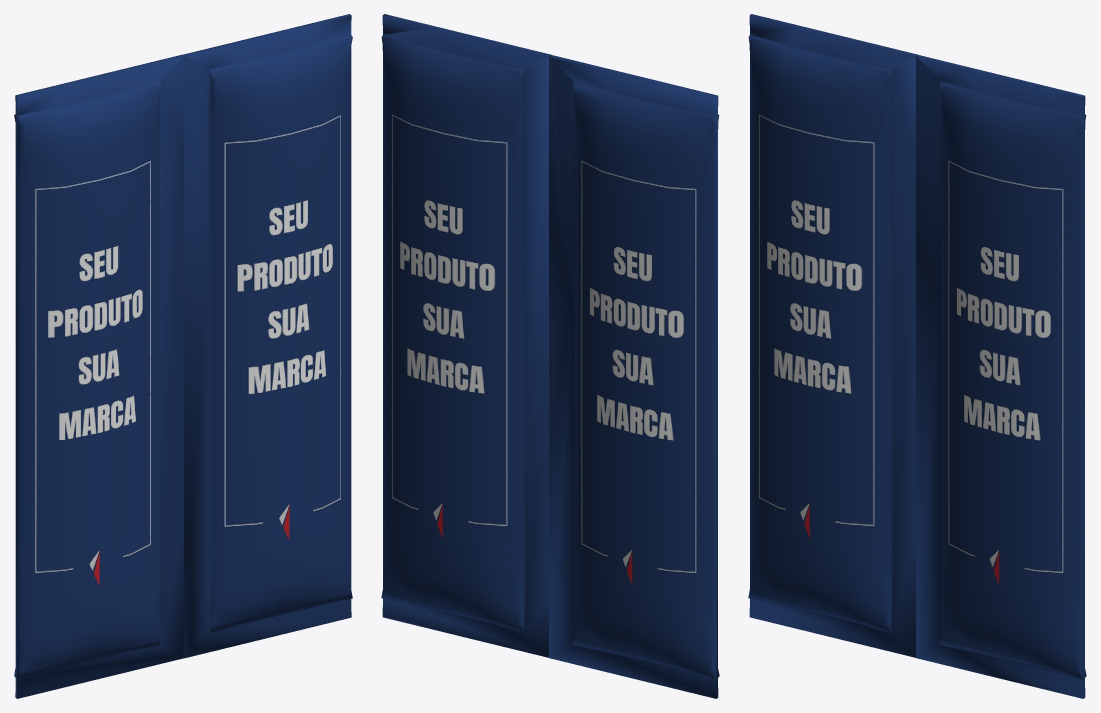
The model's file is 3-soldas-duplo.glb.
3 renders of one model, left to right at view 1: azimuth 30°, elevation 25°; view 2: azimuth 150°, elevation 25°; view 3: azimuth 330°, elevation 25°, orthographic.
Visible parts, largest first — view 1: Plane.003; view 2: Plane.003; view 3: Plane.003.
Boxes of the visible parts, x1,y1,x2,y2 form: Plane.003: (14,14,352,698); Plane.003: (381,14,719,698); Plane.003: (748,14,1086,698).
Bounding box in the file's own units: 1.7 × 2.93 × 0.217.
Materials: 2 (2 with a texture image).
